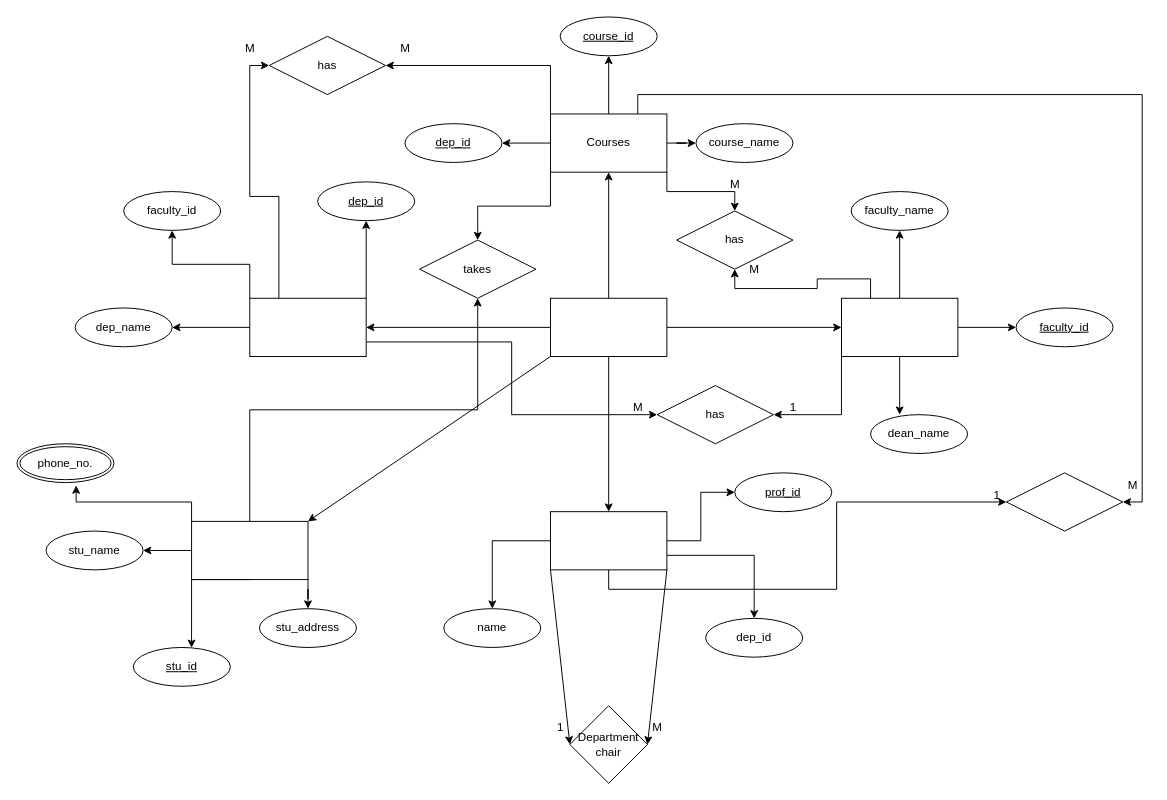
Some shapes in this 1167 by 800 pixel diagram are drawn without their labels. The centre of each missing label's shape, as x and y in pixels:
Assuit University: (x=608, y=326)
Department: (x=307, y=326)
Faculty: (x=899, y=326)
Professors: (x=608, y=540)
Student: (x=249, y=550)
teach: (x=1064, y=501)
